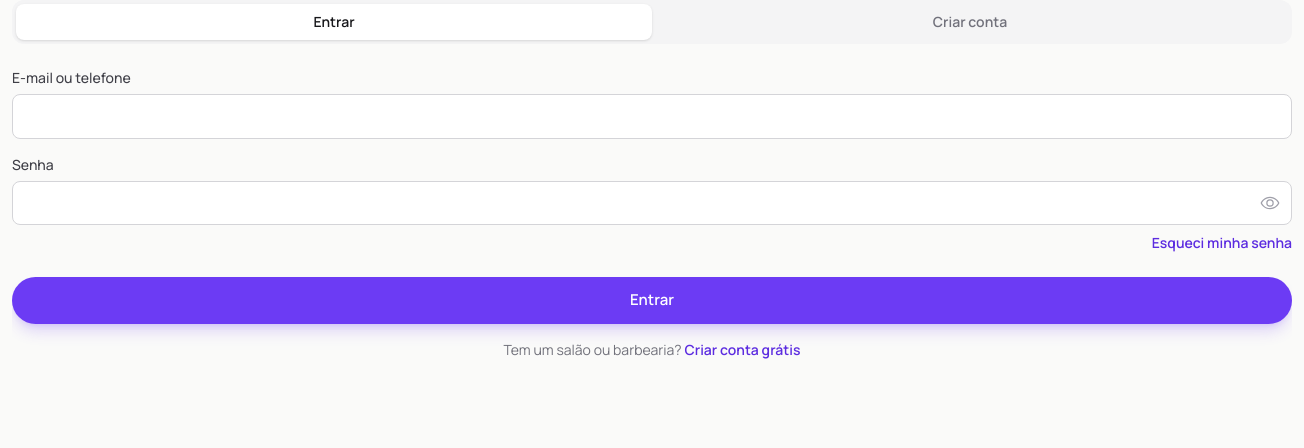
Test case: LoginForm: e-mail não confirmado › um novo login com sucesso esconde o aviso e navega
In the field labelled "E-mail ou telefone": (652, 116) [12,94,1292,138], type "dono@salao.com"
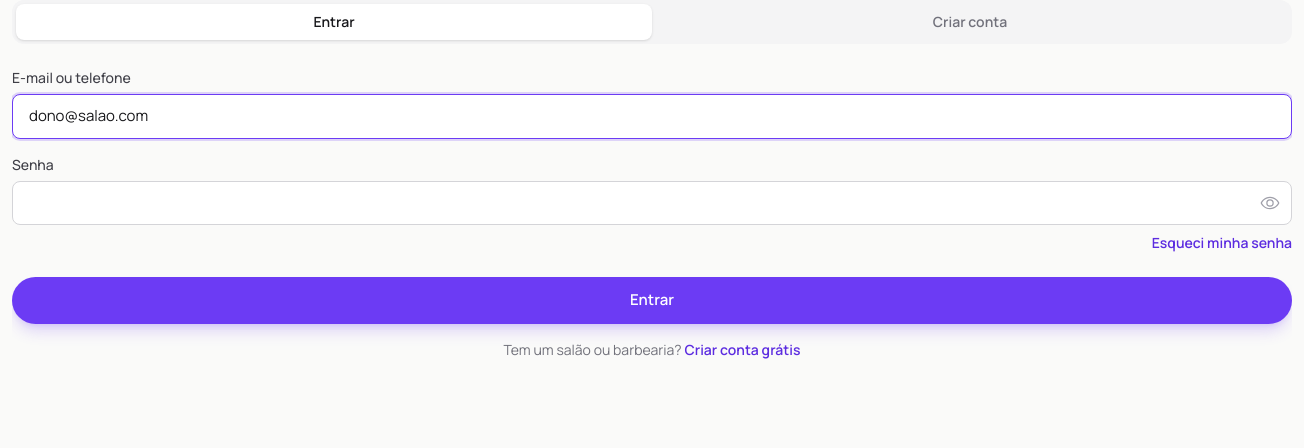
In the password field labelled "Senha": (652, 203) [12,180,1292,225], type "senha-correta-123"
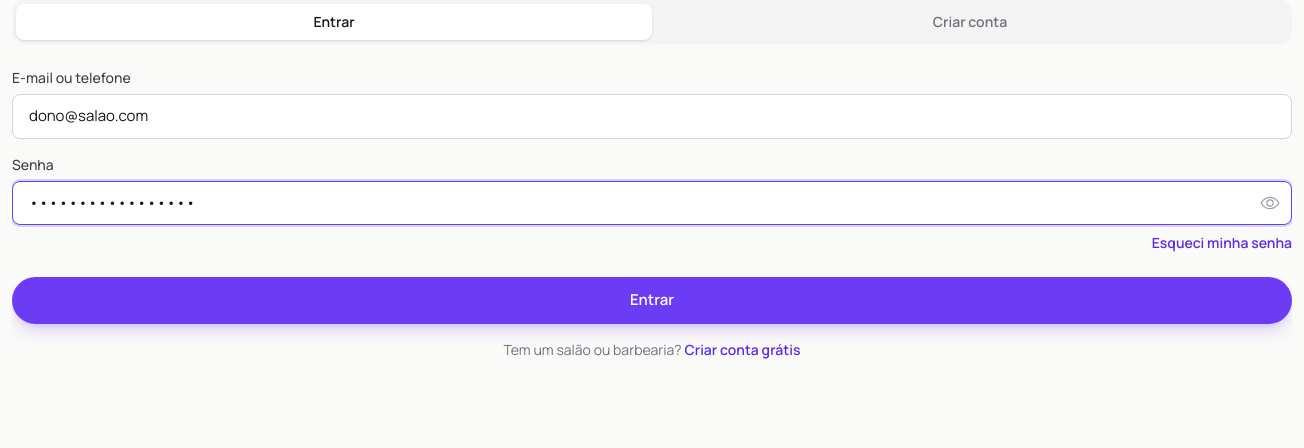
Click the button "Entrar" below "Esqueci minha senha": click(652, 300) [12,277,1292,324]
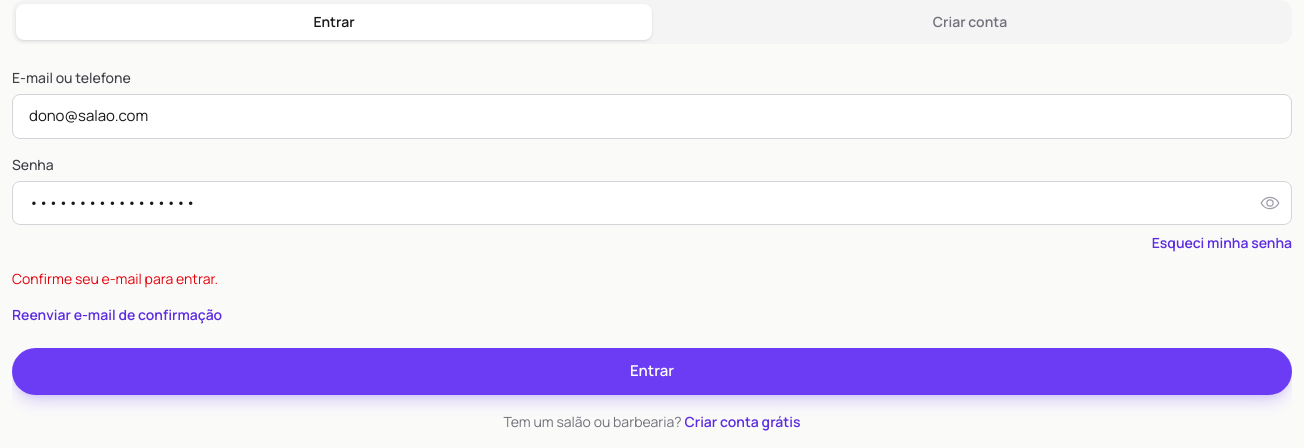
Expected: the button "Reenviar e-mail de confirmação" is shown, [12,305,222,325]
Click the button "Entrar" below "Confirme seu e-mail para entrar.": click(652, 371) [12,348,1292,394]
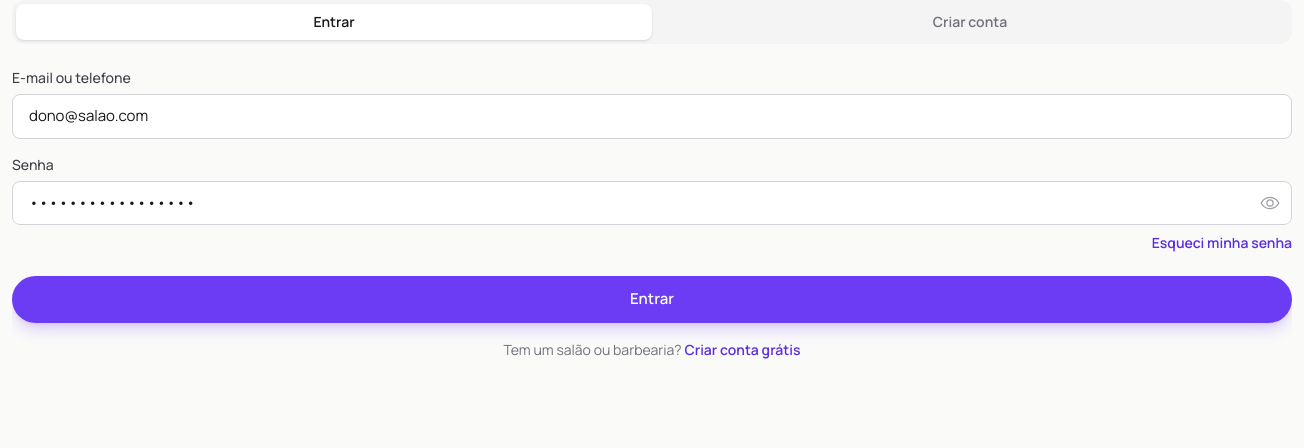
Expected: the button "Reenviar" is gone
